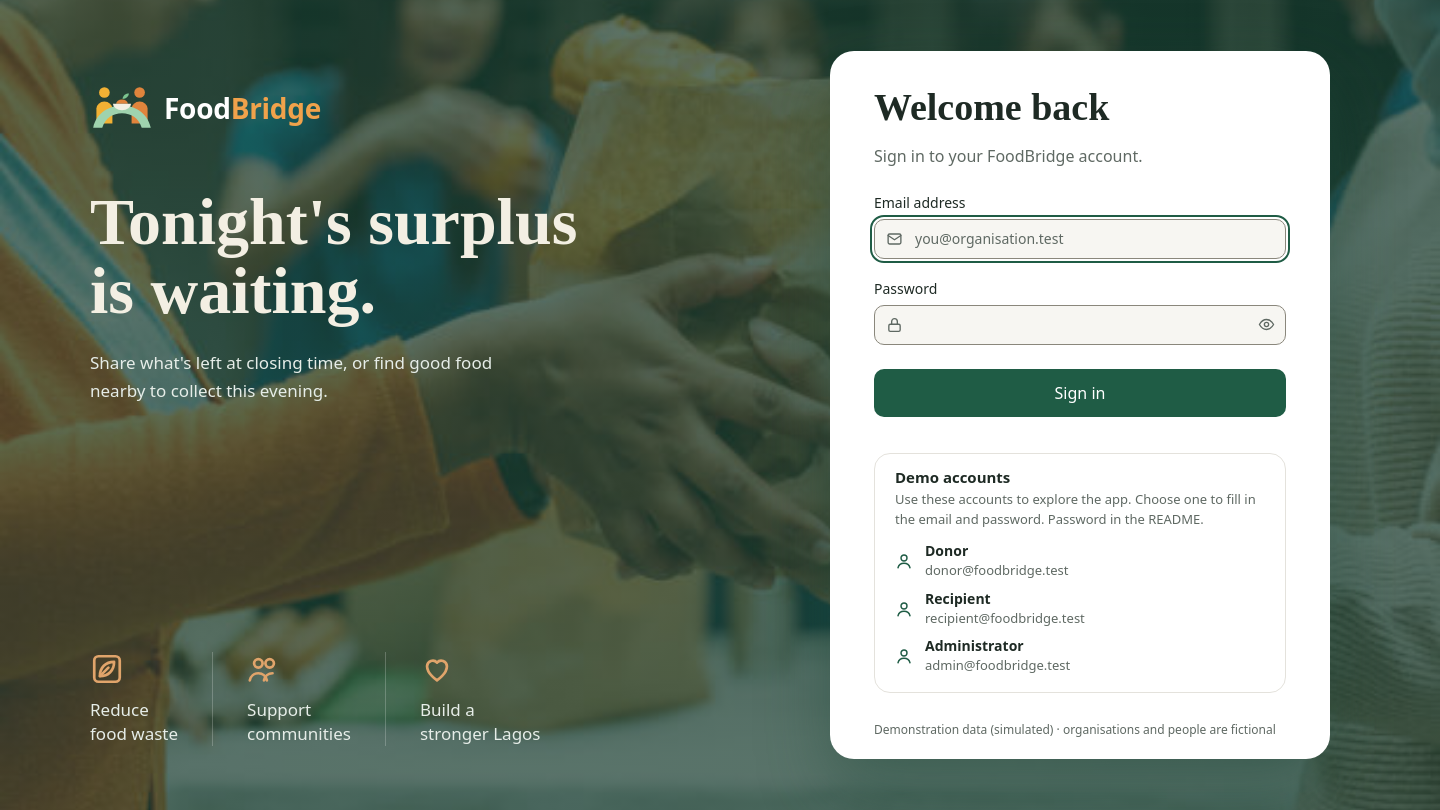
Sign in › shows both empty-field errors and moves focus to the first
Click the password field labelled "Password".
click(1080, 325)  # box [874,305,1286,345]
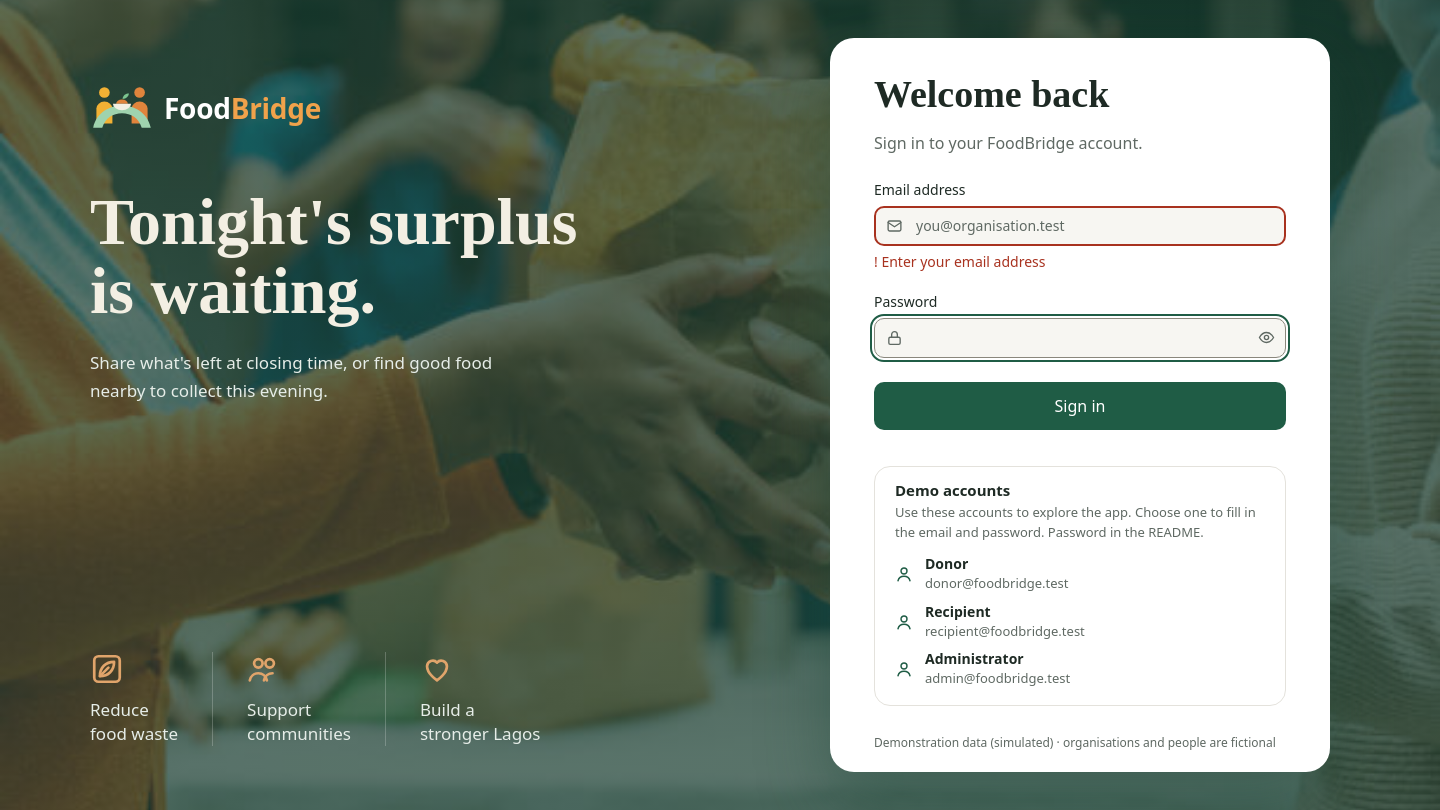
Click the button "Sign in".
click(1080, 406)  # box [874,382,1286,430]
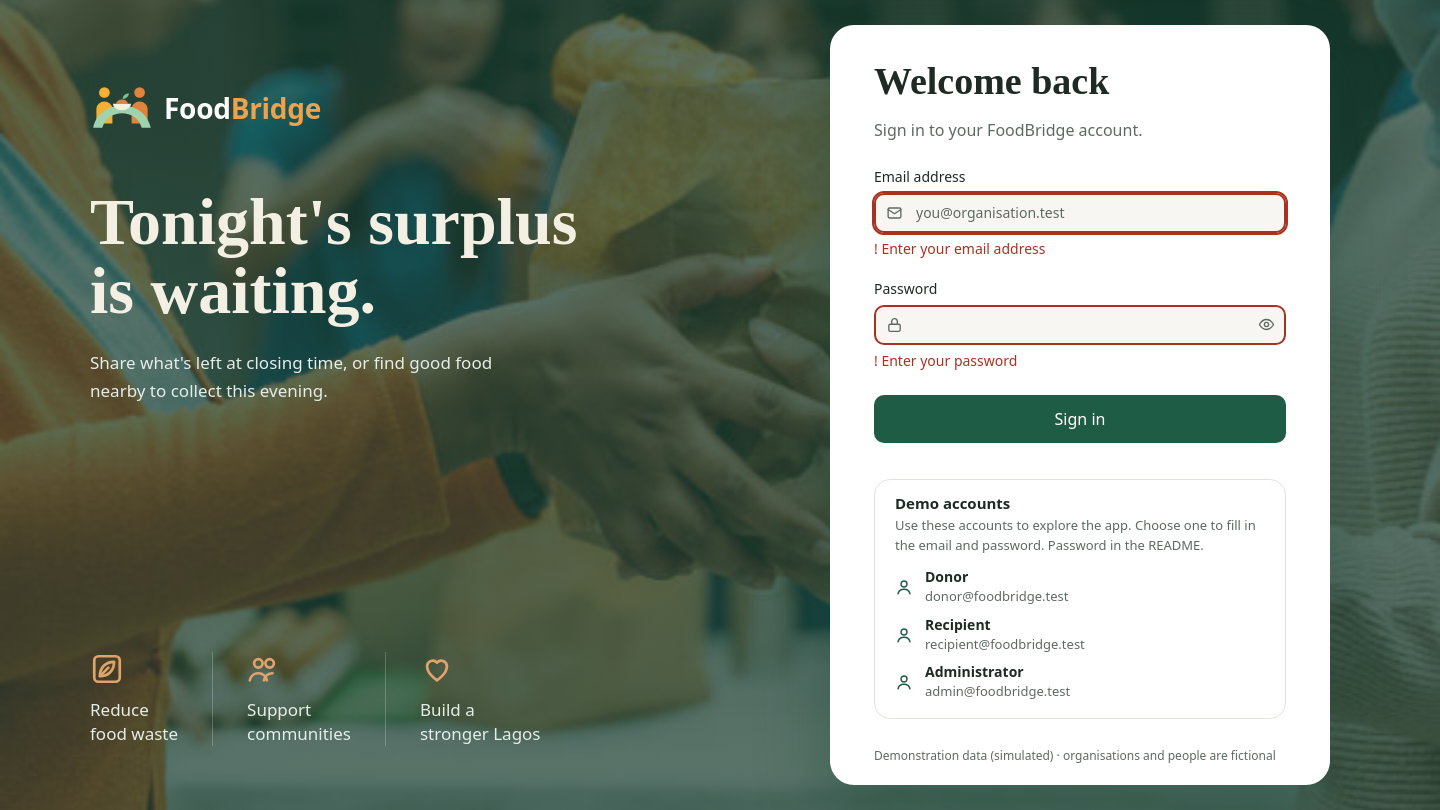
Expected: the text "Enter your email address" is shown, [881,239,1046,258]
Expected: the text "Enter your password" is shown, [881,351,1017,370]
